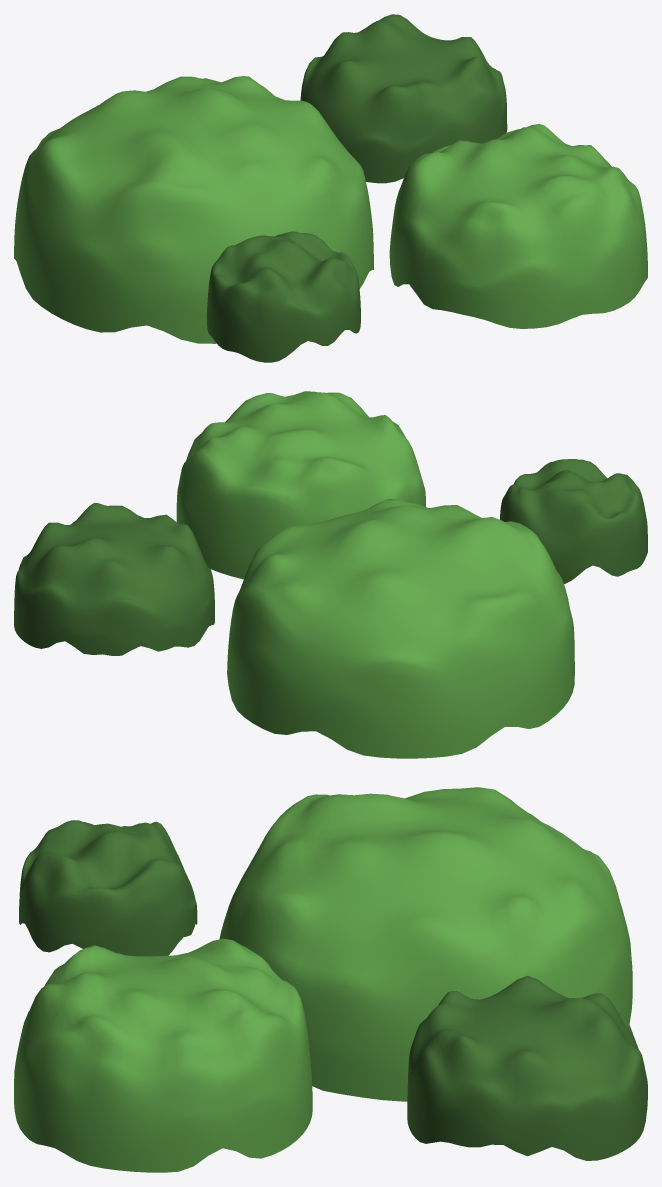
Rendered from GardenBed_Top..glb.
The picture shows the model from 3 angles, top to bottom: view 1: azimuth 30°, elevation 25°; view 2: azimuth 150°, elevation 25°; view 3: azimuth 270°, elevation 25°; orthographic projection. The views are drawn at different scales.
Visible parts, largest first — view 1: GardenBed_Top; view 2: GardenBed_Top; view 3: GardenBed_Top.
Boxes of the visible parts, x1=… form: GardenBed_Top: x1=14, y1=14, x2=647, y2=362; GardenBed_Top: x1=14, y1=391, x2=647, y2=758; GardenBed_Top: x1=14, y1=787, x2=647, y2=1172.
Size of the model in its own units: 1.73 by 0.5564 by 1.63.
